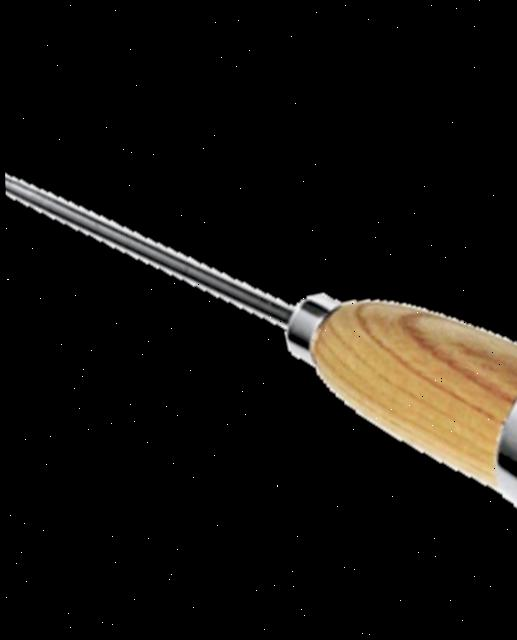ice pick: (0, 7, 517, 622)
